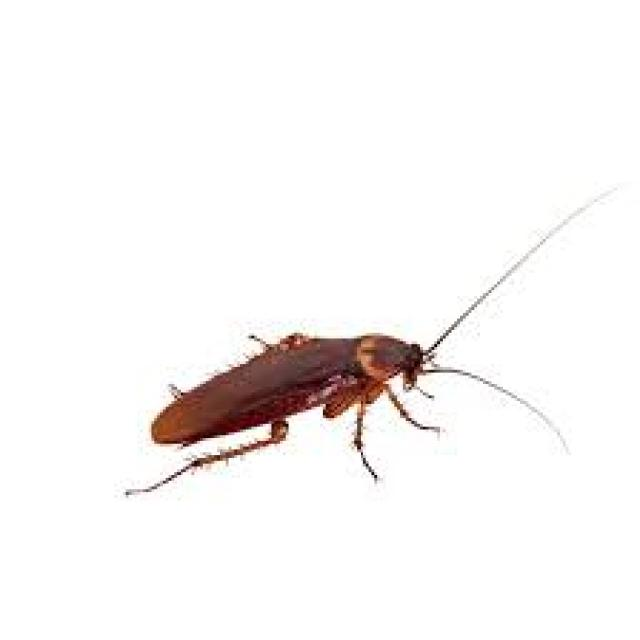Cockroach: (94, 294, 558, 508)
